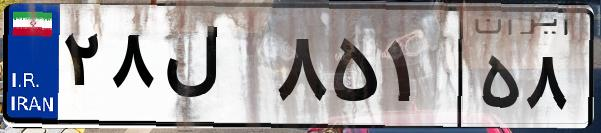1: (385, 28, 445, 110)
2: (57, 26, 110, 100)
5: (330, 28, 385, 110), (475, 38, 525, 113)
8: (270, 28, 330, 110), (525, 38, 570, 115), (110, 28, 158, 98)
ل: (158, 20, 270, 120)
